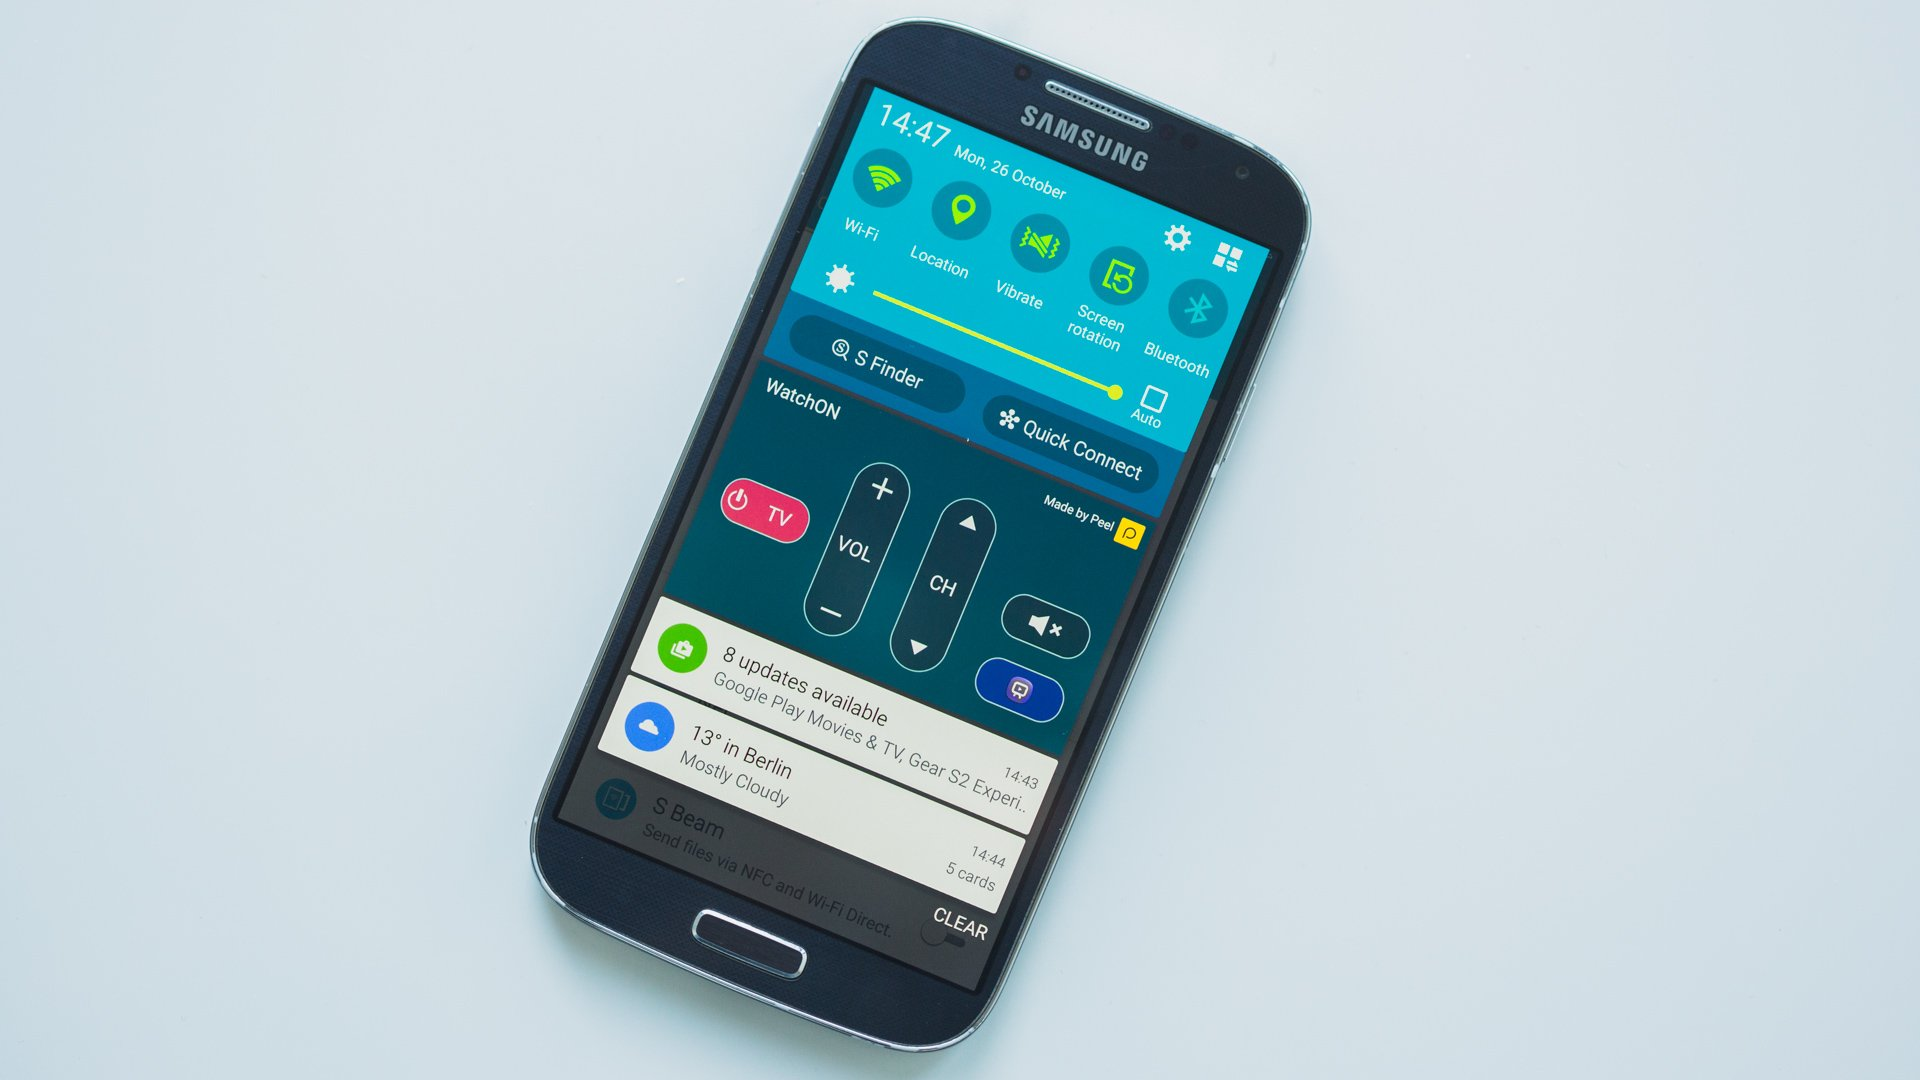smartphone: (527, 16, 1312, 1054)
